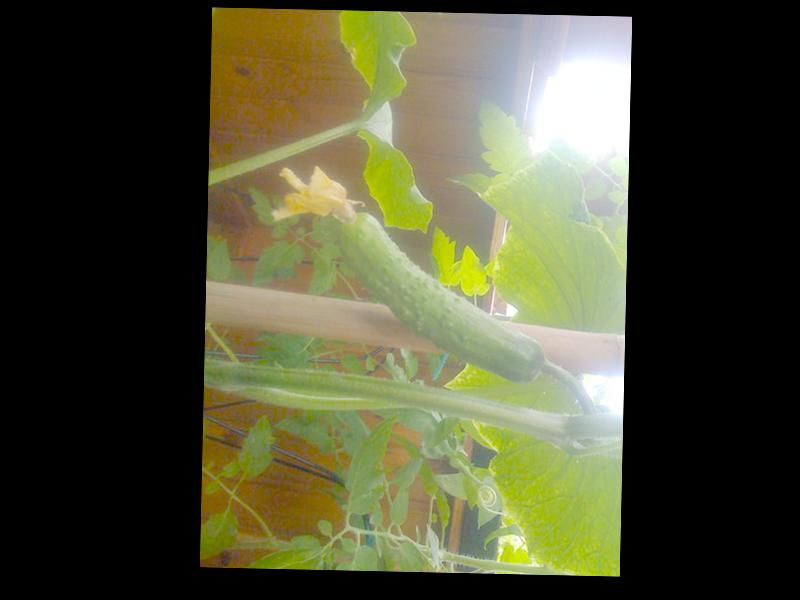Cucumber: (267, 162, 547, 381)
